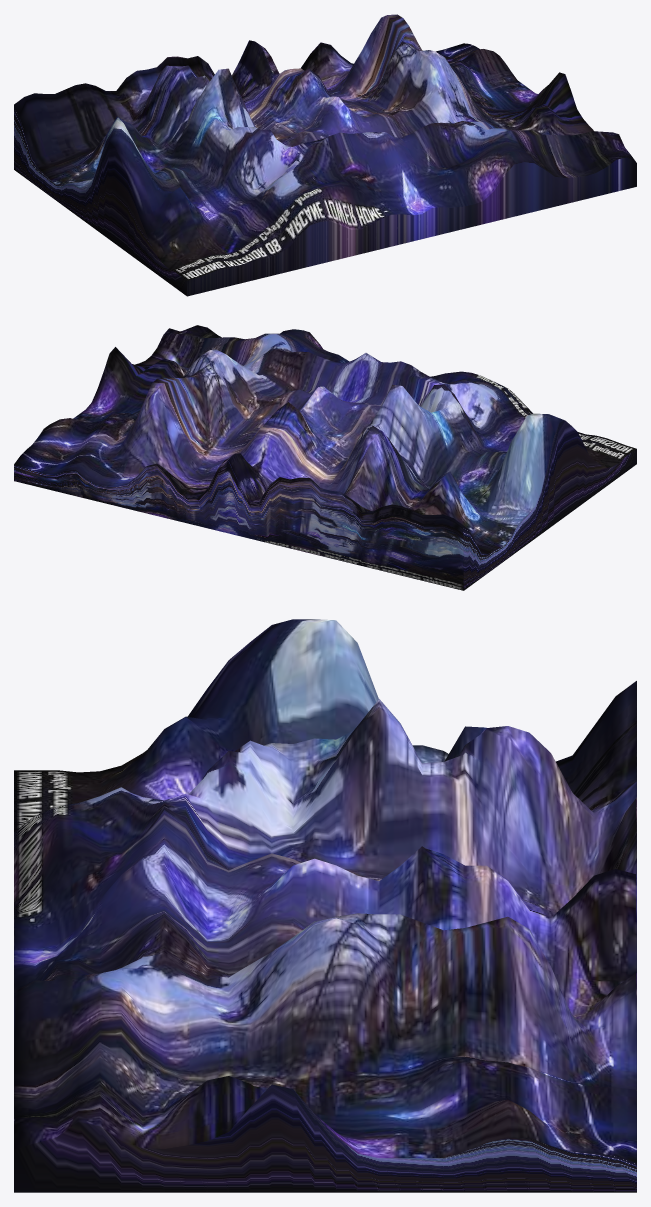
File: INTERIOR_08_Arcane_Tower_Home.glb
3 renders of one model, top to bottom at view 1: azimuth 30°, elevation 25°; view 2: azimuth 150°, elevation 25°; view 3: azimuth 270°, elevation 25°, orthographic. The views are drawn at different scales.
Parts seen in each view (by area): view 1: INTERIOR_08_Arcane_Tower_Home; view 2: INTERIOR_08_Arcane_Tower_Home; view 3: INTERIOR_08_Arcane_Tower_Home.
Part boxes in pixels (box(x1,y1,x2,y2)): INTERIOR_08_Arcane_Tower_Home: box(14, 14, 636, 296); INTERIOR_08_Arcane_Tower_Home: box(14, 325, 636, 590); INTERIOR_08_Arcane_Tower_Home: box(14, 619, 636, 1192).
Bounding box in the file's own units: 2 × 0.51 × 1.33.
Materials: 1 (1 with a texture image).
